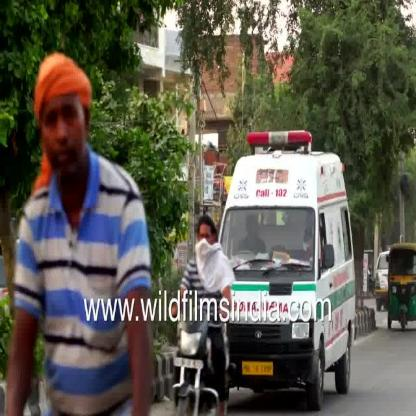priority: (210, 122, 352, 236)
